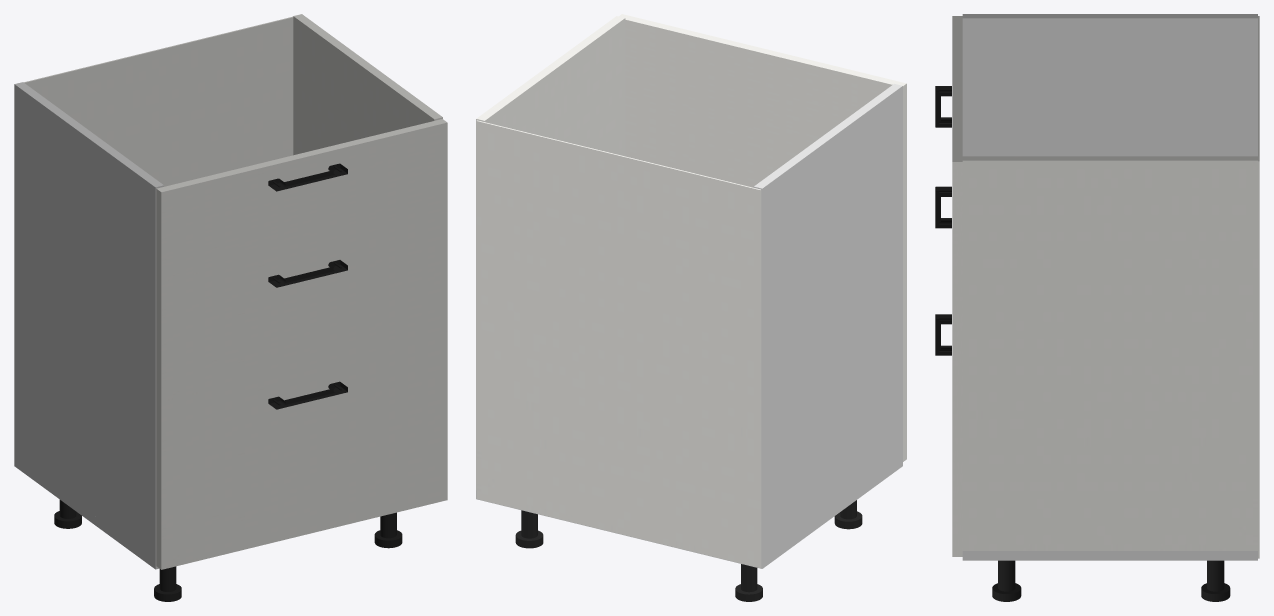
Rendered from 1003-HOB-60.glb.
3 views of the same model, side by side, from view 1: azimuth 30°, elevation 25°; view 2: azimuth 150°, elevation 25°; view 3: azimuth 270°, elevation 25° (orthographic). The views are drawn at different scales.
Parts seen in each view (by area): view 1: door, carcass, handle, plinth; view 2: carcass, door, plinth; view 3: carcass, door, plinth, handle.
Boxes of the visible parts, <box> form: door: <box>156,119,447,569</box>; carcass: <box>14,14,442,569</box>; handle: <box>268,163,347,409</box>; plinth: <box>54,500,402,601</box>; carcass: <box>476,16,902,568</box>; door: <box>619,14,906,461</box>; plinth: <box>515,500,862,601</box>; carcass: <box>962,14,1259,560</box>; door: <box>952,16,962,556</box>; plinth: <box>992,560,1230,601</box>; handle: <box>935,86,951,355</box>.
Size of the model in its own units: 0.6 by 0.862 by 0.5605.
Materials: 4 (4 with a texture image).
